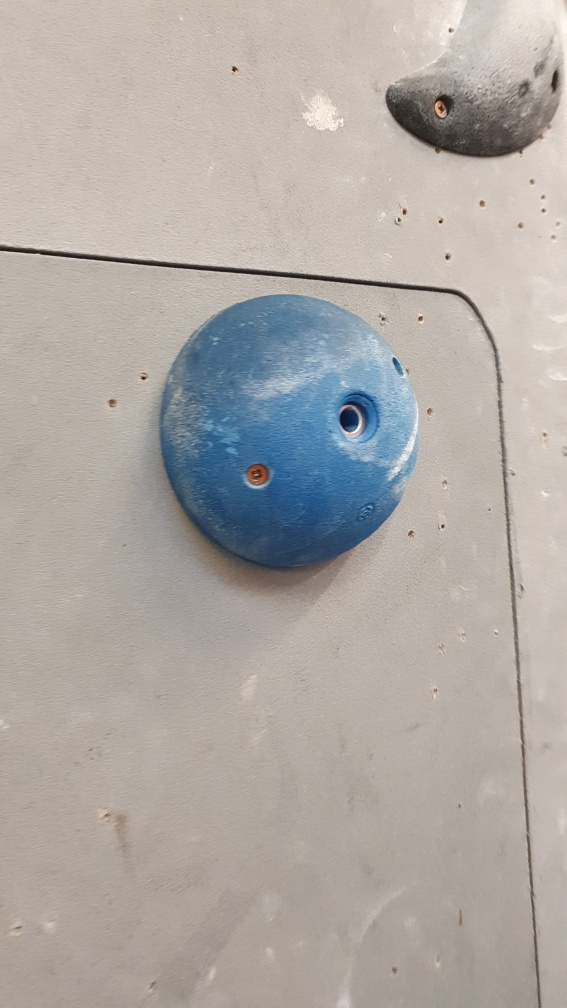Sloper: (154, 290, 424, 575)
